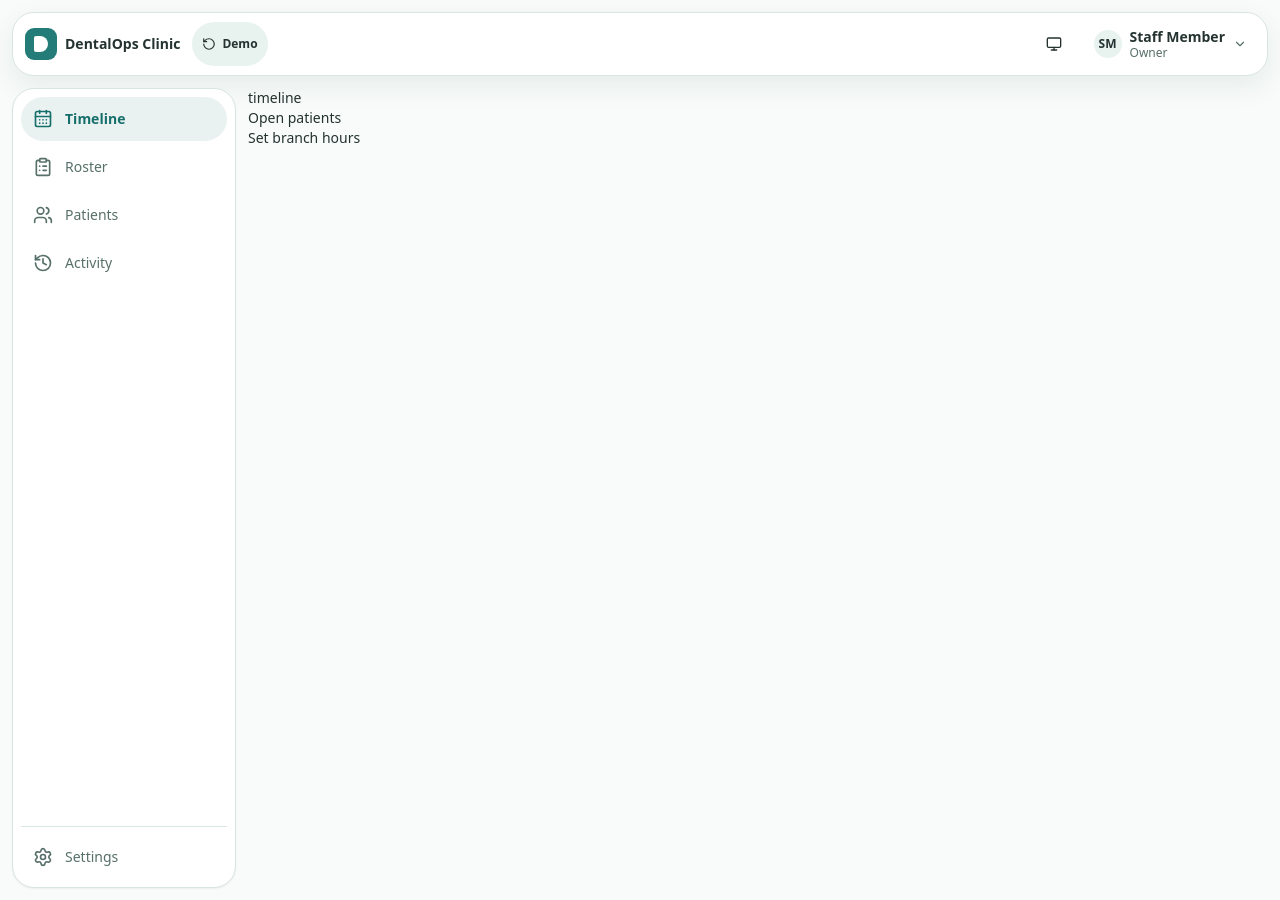
AppShell system status › explains the demo reset behavior on demand
Click the button with test id "demo-banner": {"x": 230, "y": 44} [192,22,268,66]
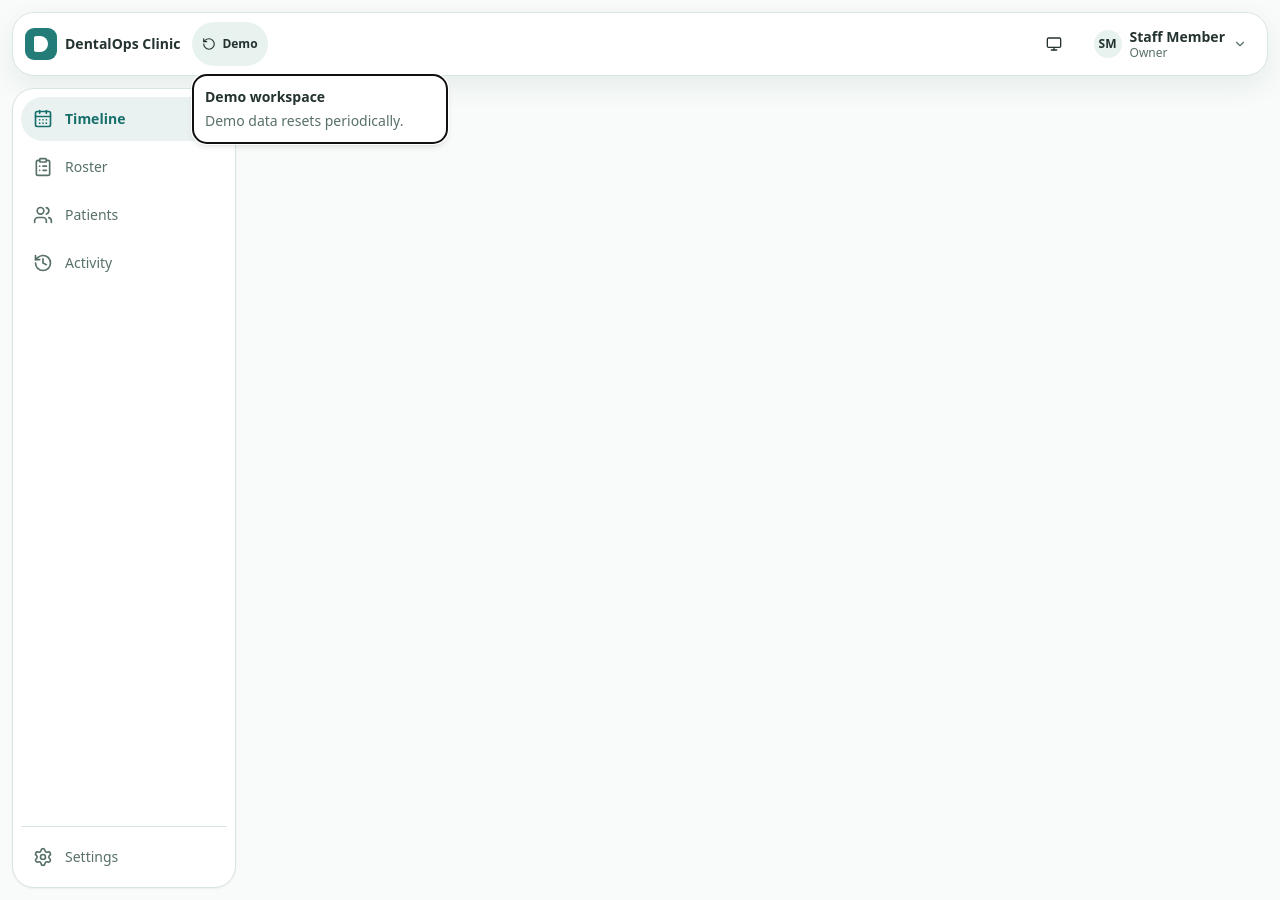
Expected: the heading "Demo workspace" is shown, [205,87,325,106]
Expected: the text "Demo data resets periodically." is shown, [205,111,435,131]
